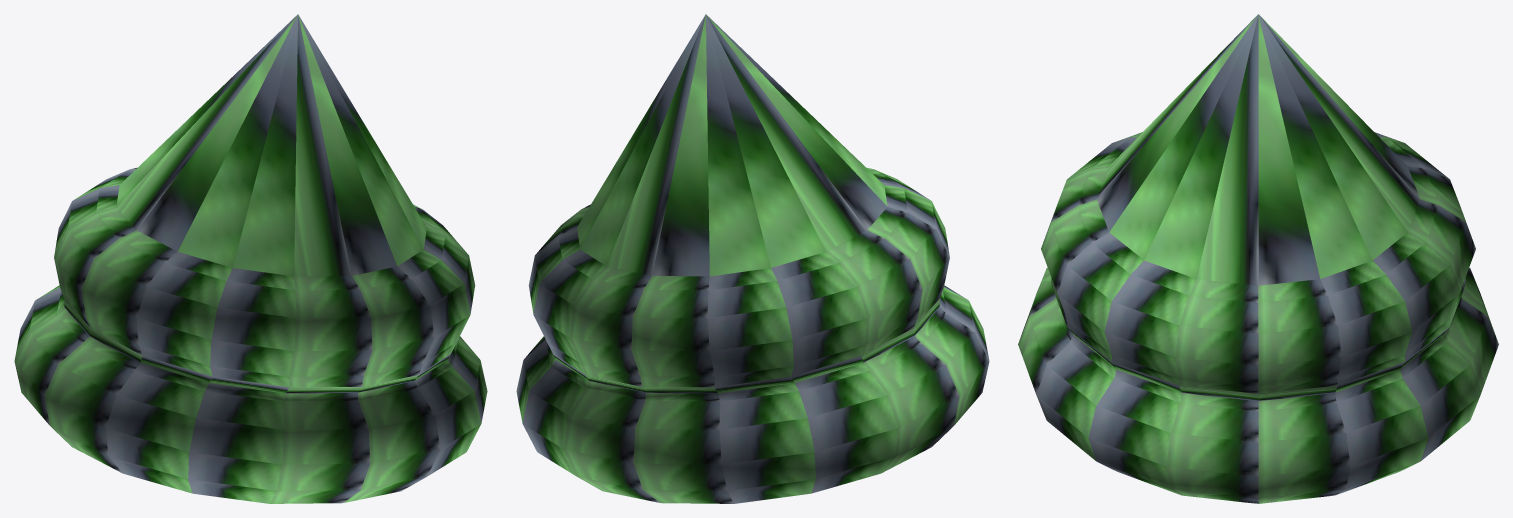
Rendered from icon.ico.obj.
The picture shows the model from 3 angles, left to right: view 1: azimuth 30°, elevation 25°; view 2: azimuth 150°, elevation 25°; view 3: azimuth 270°, elevation 25°; orthographic projection.
Size of the model in its own units: 3.77 by 3.74 by 3.77.
